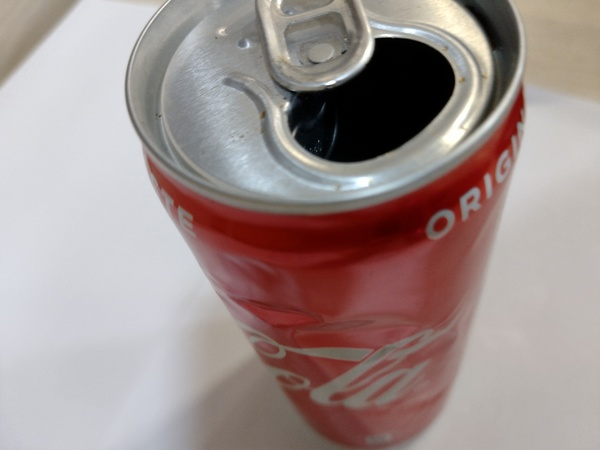can: (118, 3, 532, 444)
